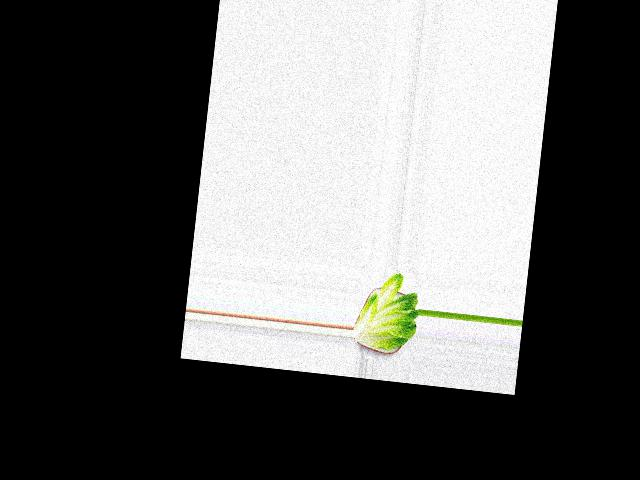lettuce: (353, 268, 424, 357)
